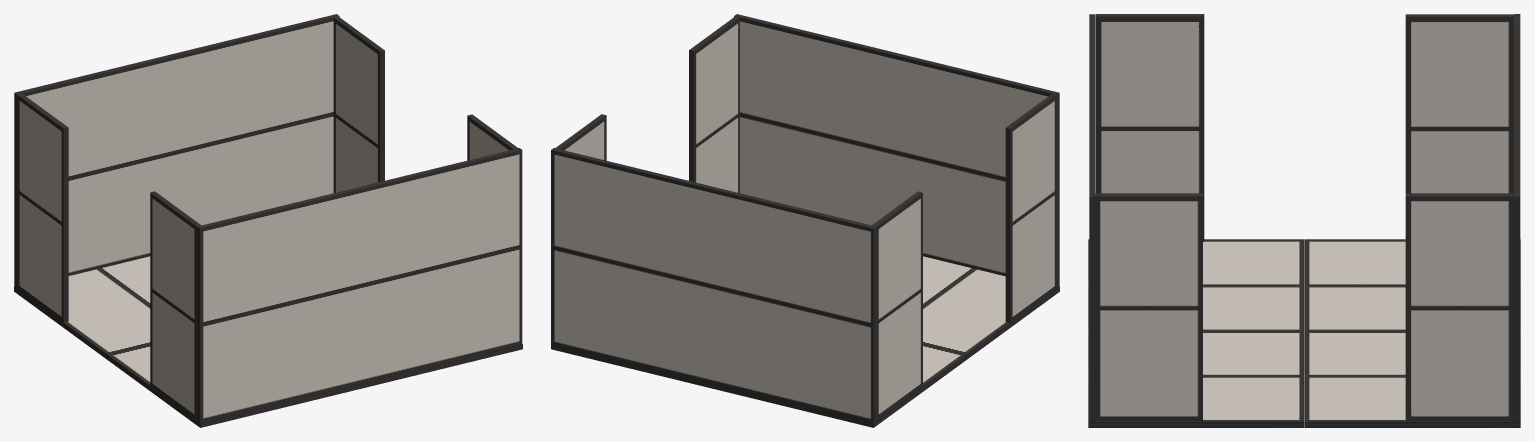
The model's file is JapaneseInterior-room-2way-straight.fbx.
3 views of the same model, side by side, from view 1: azimuth 30°, elevation 25°; view 2: azimuth 150°, elevation 25°; view 3: azimuth 270°, elevation 25° (orthographic). The views are drawn at different scales.
Visible parts, largest first — view 1: floor-4x1.002; view 2: floor-4x1.002; view 3: floor-4x1.002.
Boxes of the visible parts, <box> form: floor-4x1.002: <box>14,14,522,427</box>; floor-4x1.002: <box>551,14,1059,427</box>; floor-4x1.002: <box>1088,14,1520,427</box>.
Size of the model in its own units: 400 by 236 by 400.
8 materials, 8 textured.
